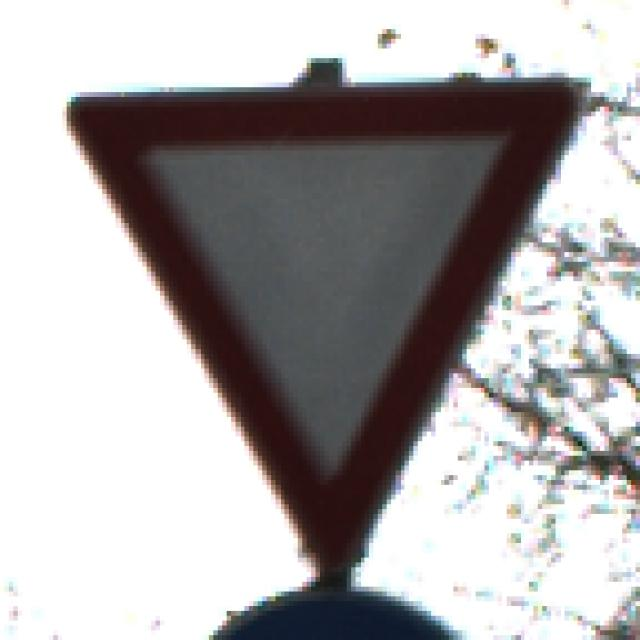Give Way: (59, 59, 588, 588)
